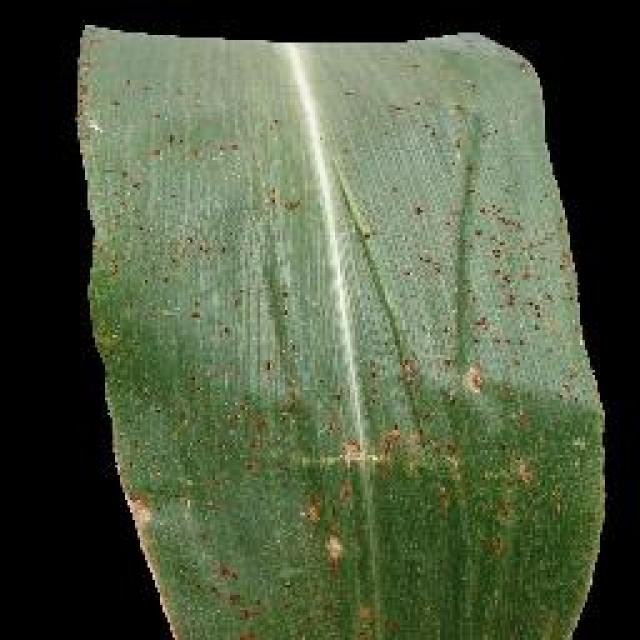Corn___Common_rust: (70, 35, 630, 640)
